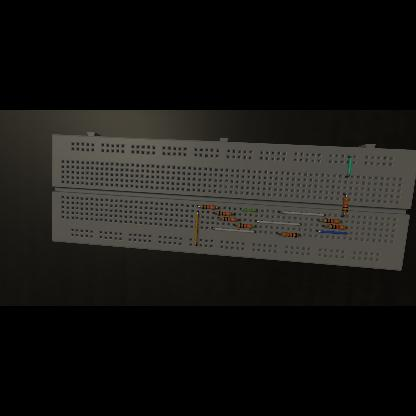breadboard: (52, 132, 416, 272)
resistor: (342, 198, 349, 214), (328, 224, 346, 230), (324, 218, 340, 224), (282, 232, 298, 238), (201, 204, 215, 210), (216, 211, 232, 216), (222, 218, 236, 223), (238, 223, 252, 228)
wire: (255, 220, 301, 226), (212, 228, 256, 233), (278, 212, 326, 216), (195, 212, 199, 247), (346, 156, 352, 178), (316, 231, 348, 235), (240, 208, 258, 212), (344, 194, 347, 198), (341, 214, 345, 217), (317, 219, 323, 221), (276, 233, 282, 235), (218, 218, 222, 220), (236, 219, 240, 221), (233, 224, 237, 226), (214, 212, 217, 214), (322, 225, 328, 226), (198, 206, 200, 208), (216, 208, 220, 209), (340, 221, 342, 223), (299, 234, 301, 236), (232, 213, 235, 214), (253, 225, 255, 226), (345, 228, 347, 229)
